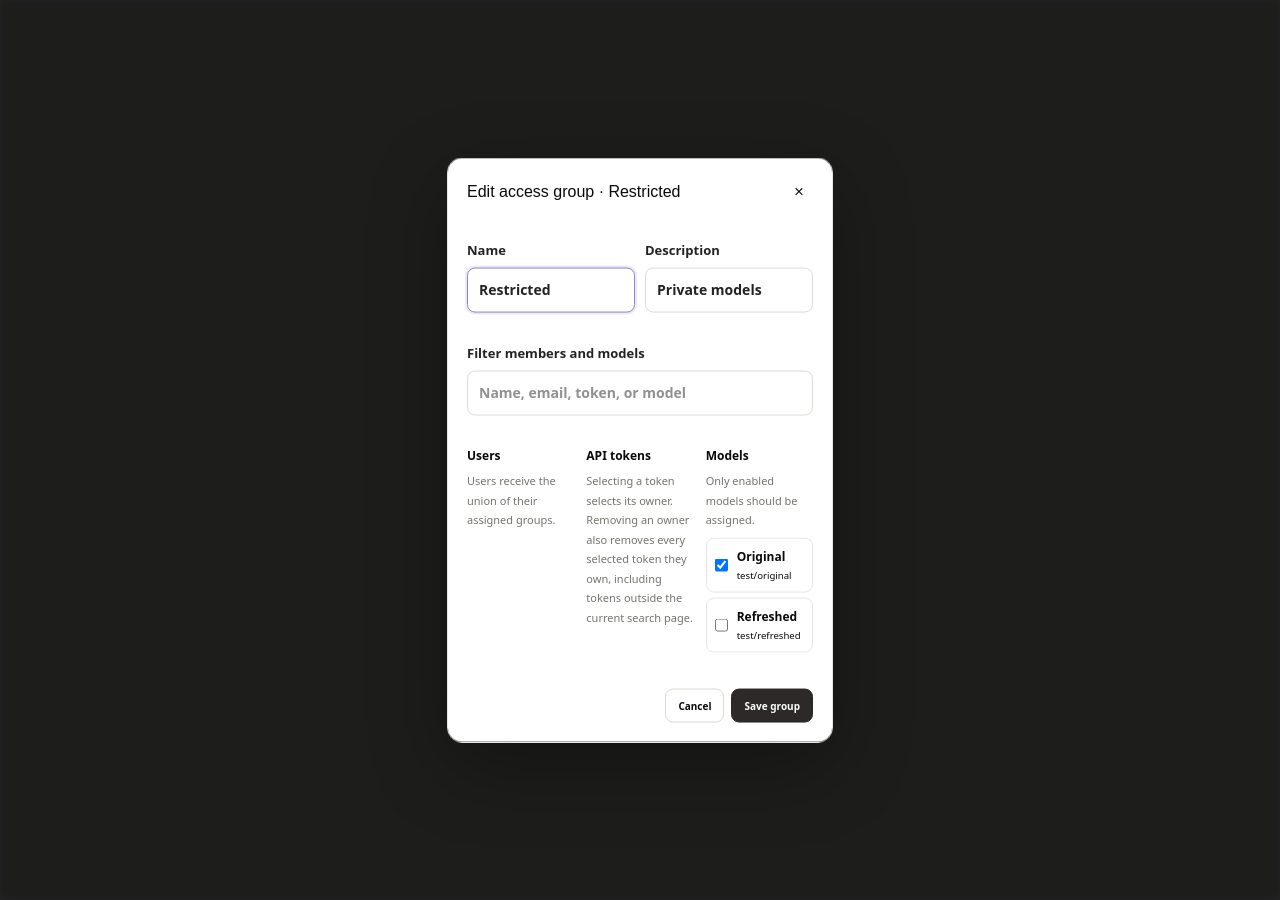
Test: rendered model-access widening confirmation › removes empty refreshed impact and prioritizes a newer preview failure
Click the button "Save group" at (772, 706), box [732,688,813,722]
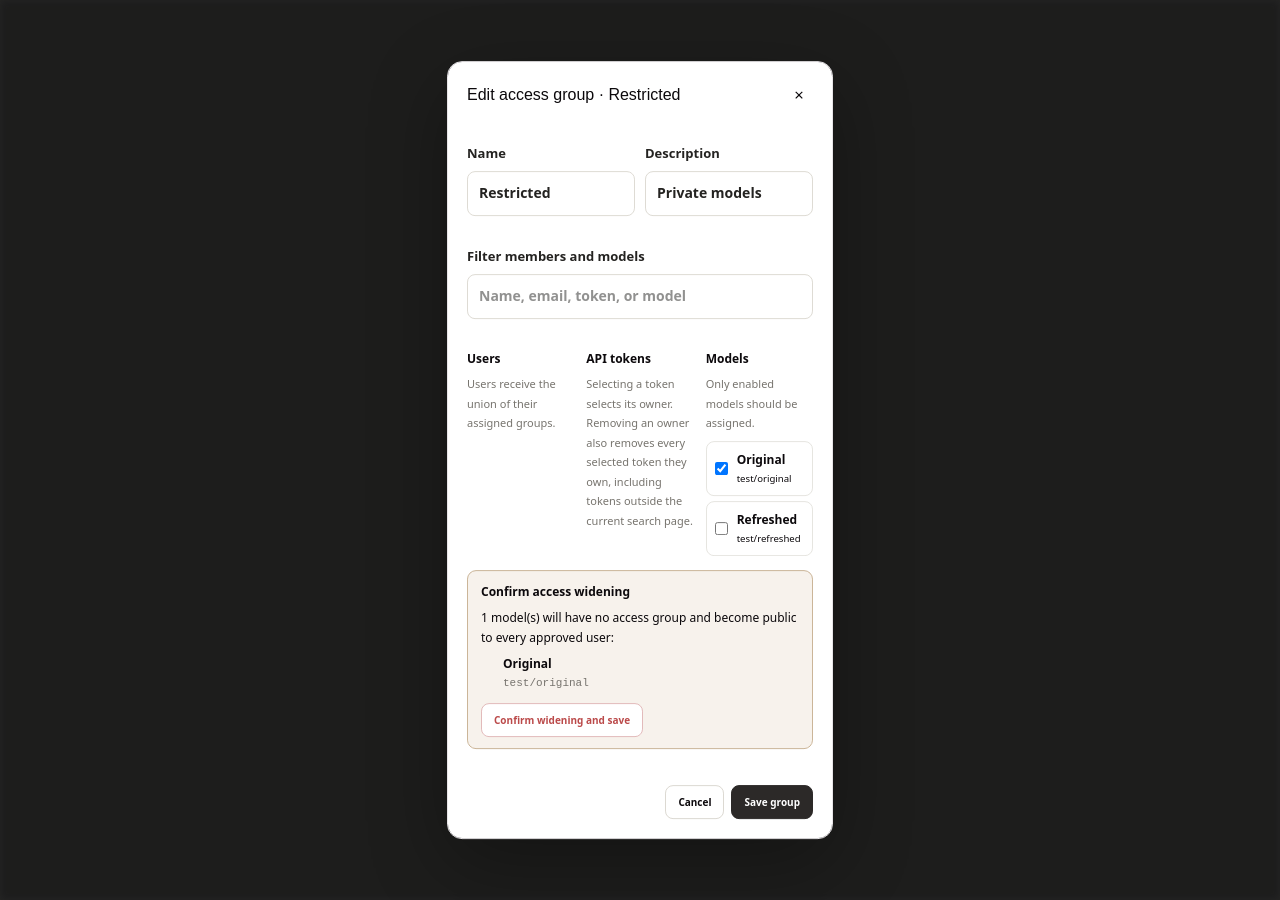
Click the button "Confirm widening and save" at (562, 720), box [481,703,643,737]
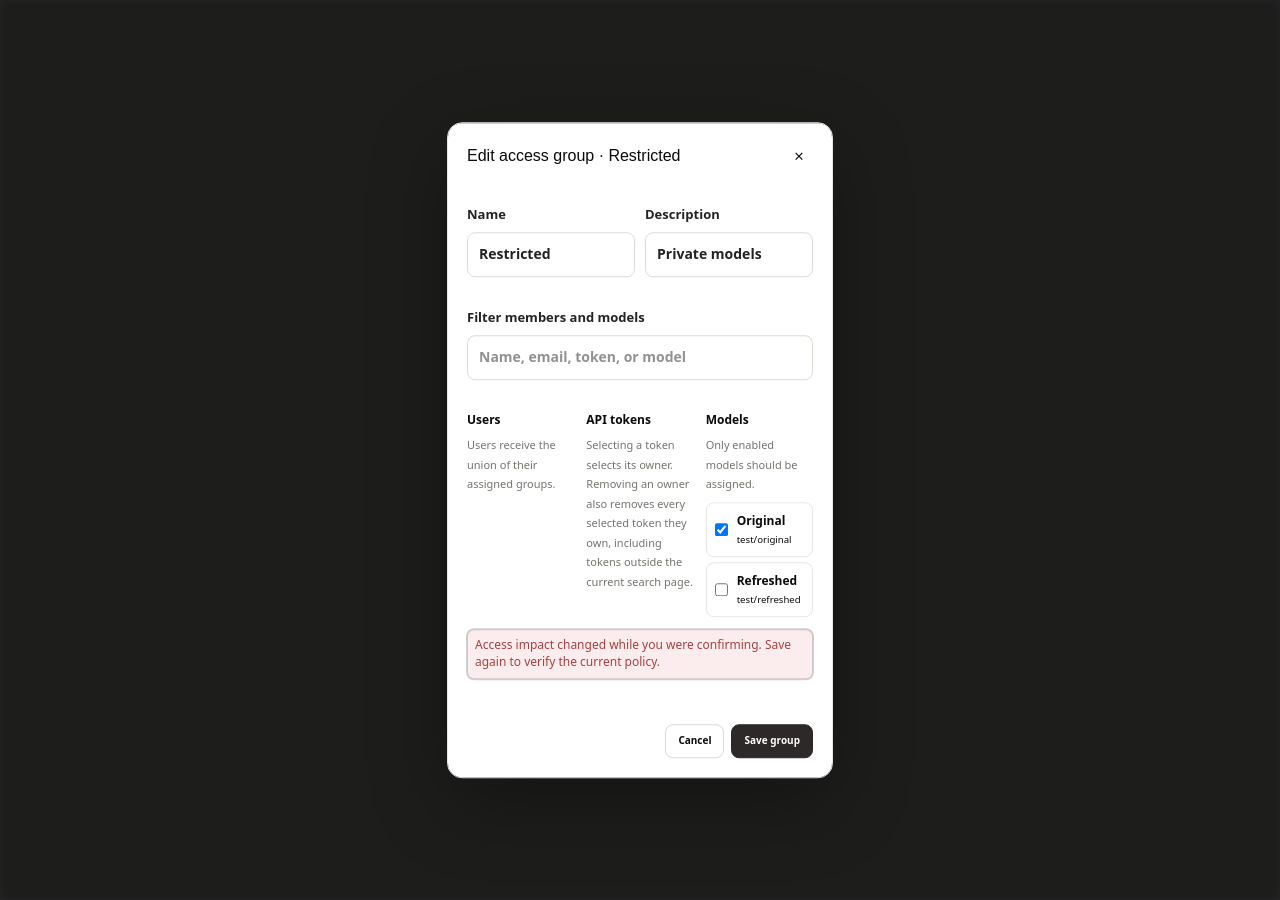
Check: the text "Access impact changed while you were confirming" is shown, box [475,636,791,670]
Check: the button "Confirm widening and save" is gone
Check: the button "Save group" is enabled
Click the button "Save group" at (772, 741), box [732,724,813,758]
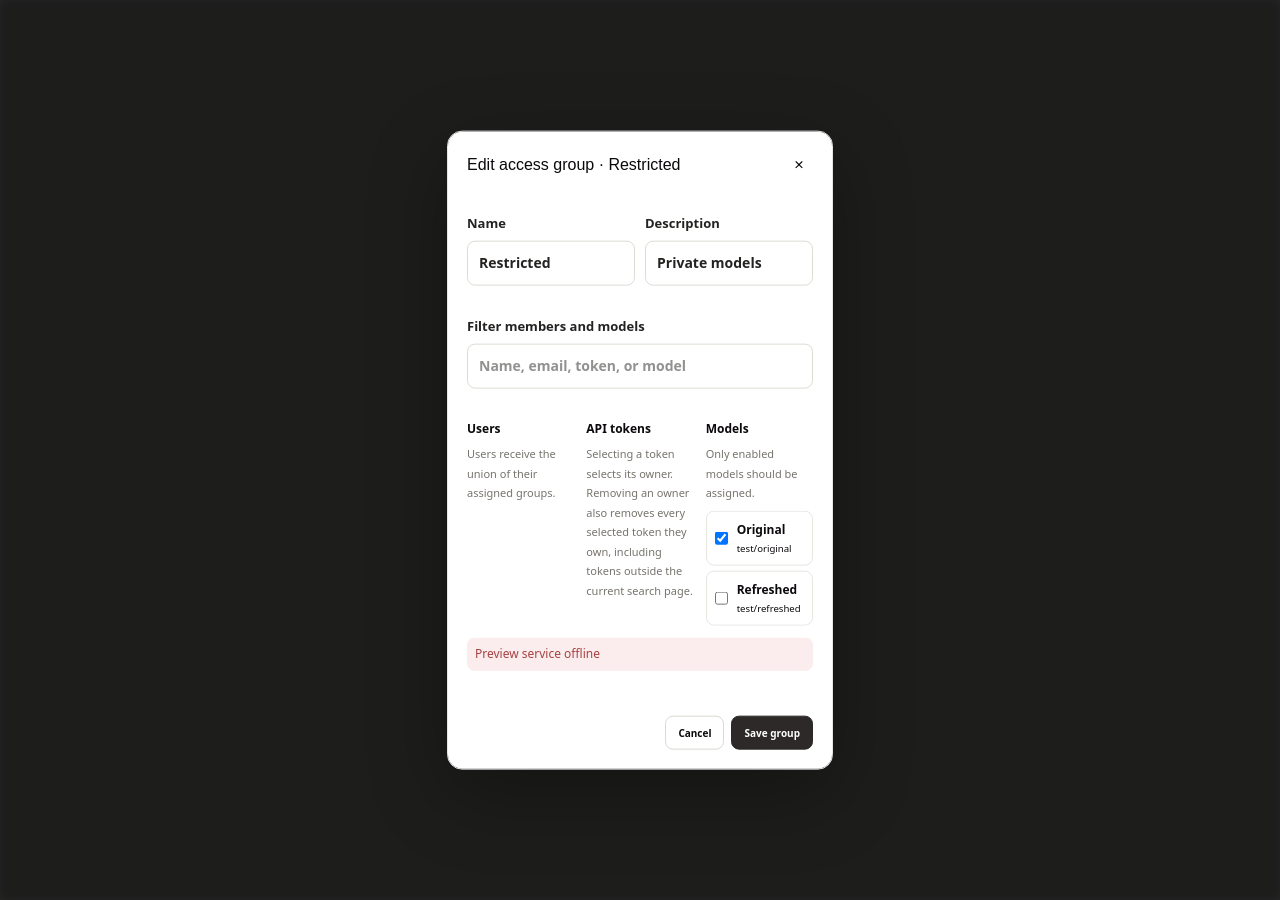
Check: the message reads "Preview service offline", box [475,645,600,662]
